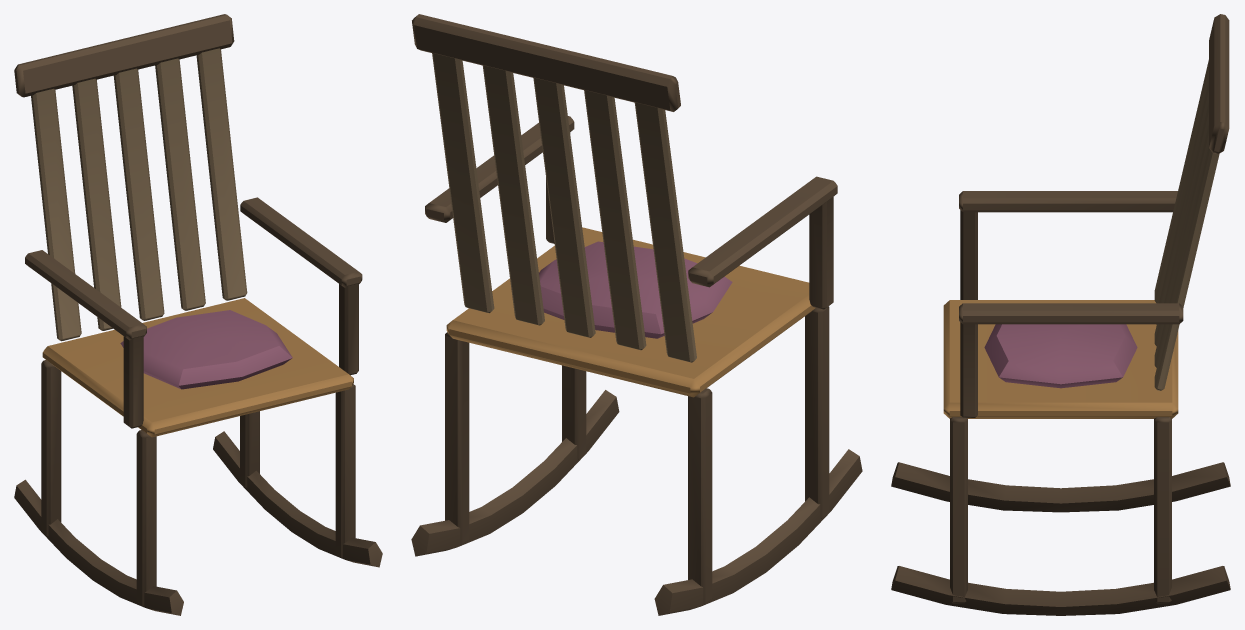
The model's file is chair_rocking.glb.
3 views of the same model, side by side, from view 1: azimuth 30°, elevation 25°; view 2: azimuth 150°, elevation 25°; view 3: azimuth 270°, elevation 25° (orthographic). The views are drawn at different scales.
Visible parts, largest first — view 1: chair_rocking; view 2: chair_rocking; view 3: chair_rocking.
Part boxes in pixels (x1=…): chair_rocking: x1=14, y1=14, x2=382, y2=615; chair_rocking: x1=411, y1=14, x2=862, y2=615; chair_rocking: x1=891, y1=14, x2=1230, y2=615.
Bounding box in the file's own units: 0.57 × 1.07 × 0.6655.
